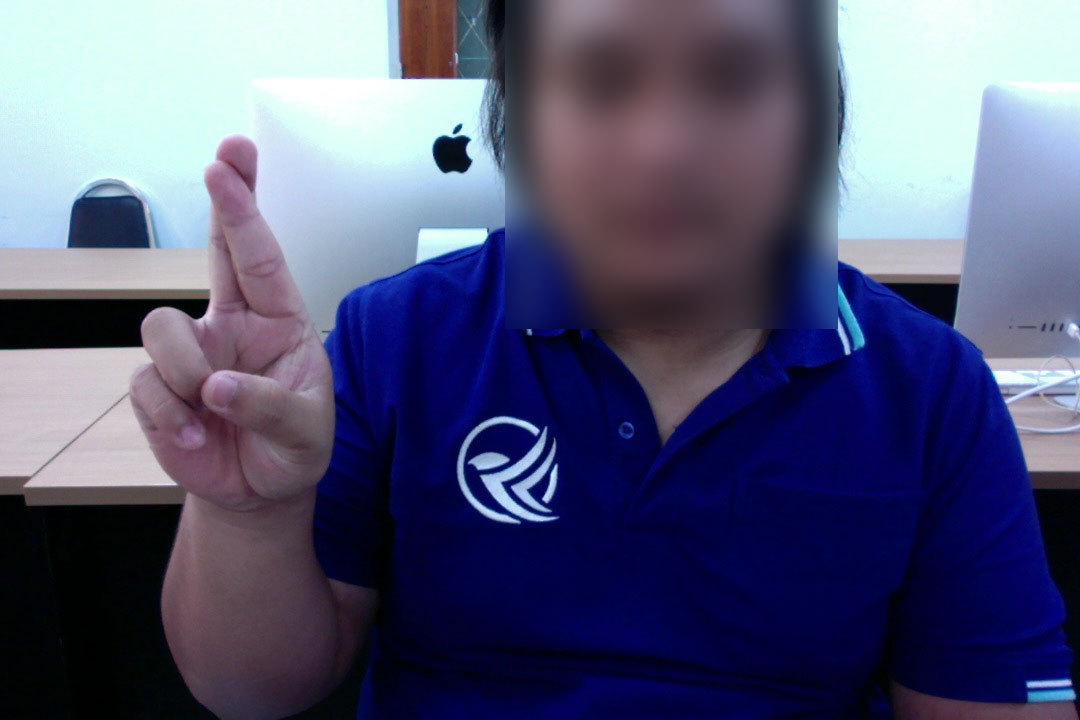rao: (113, 123, 343, 518)
